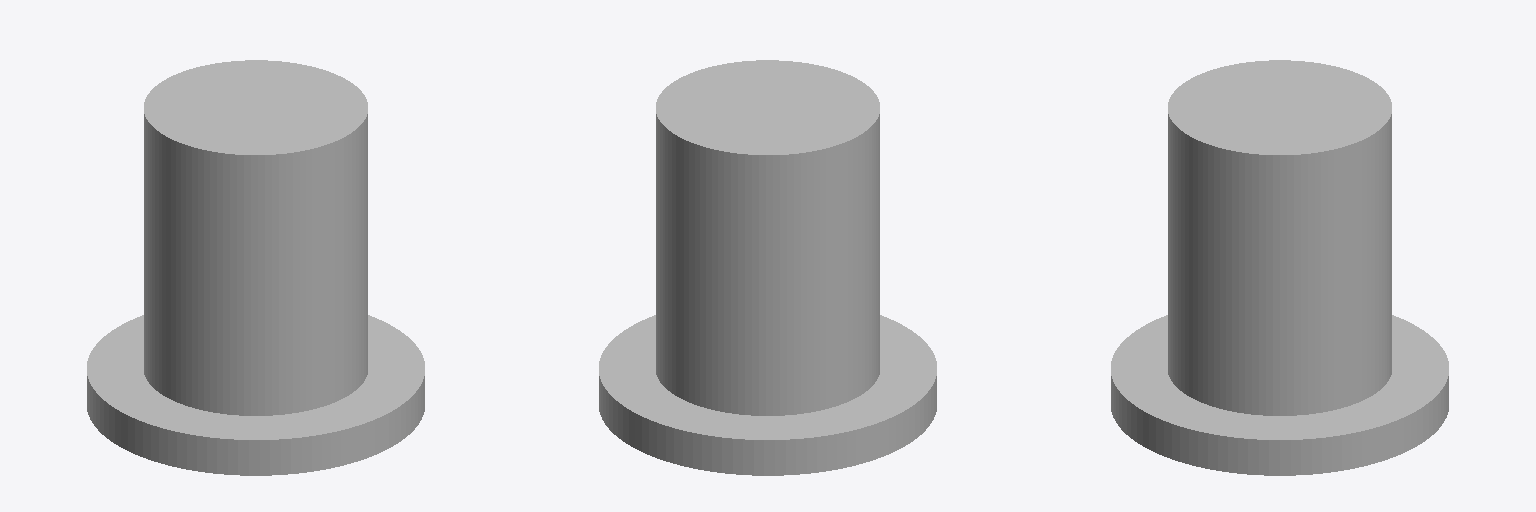
Rendered from tower.obj.
3 renders of one model, left to right at view 1: azimuth 30°, elevation 25°; view 2: azimuth 150°, elevation 25°; view 3: azimuth 270°, elevation 25°, orthographic.
Bounding box in the file's own units: 4.73 × 4.56 × 4.73.